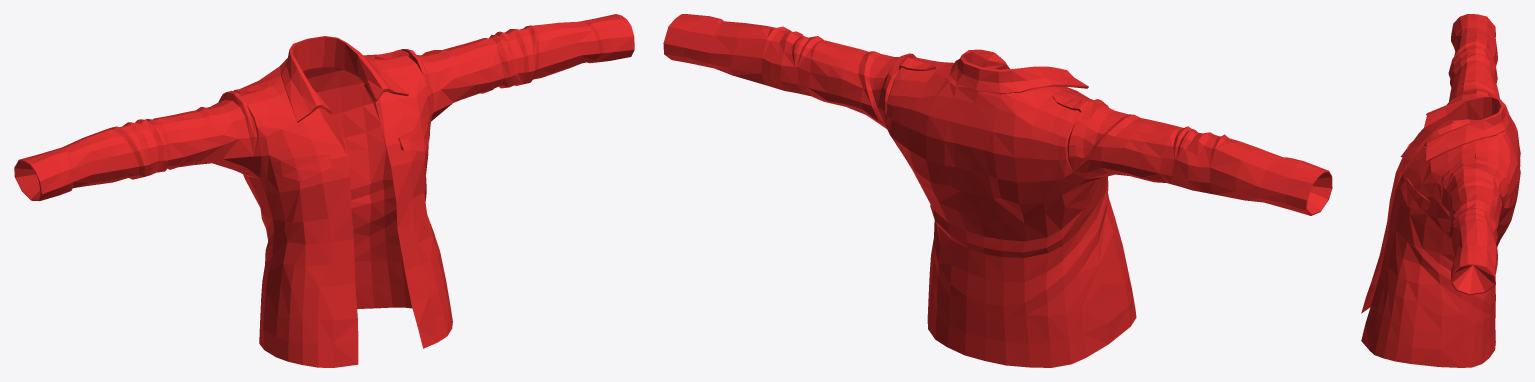
File: chamarra.OBJ
3 renders of one model, left to right at view 1: azimuth 30°, elevation 25°; view 2: azimuth 150°, elevation 25°; view 3: azimuth 270°, elevation 25°, orthographic. The views are drawn at different scales.
Visible parts, largest first — view 1: leon_RE6:group_8; view 2: leon_RE6:group_8; view 3: leon_RE6:group_8.
Boxes of the visible parts, x1,y1,x2,y2 form: leon_RE6:group_8: [14, 14, 634, 367]; leon_RE6:group_8: [663, 14, 1332, 367]; leon_RE6:group_8: [1361, 14, 1520, 367].
Bounding box in the file's own units: 25.55 × 11.23 × 6.88.
1 material, 1 textured.
